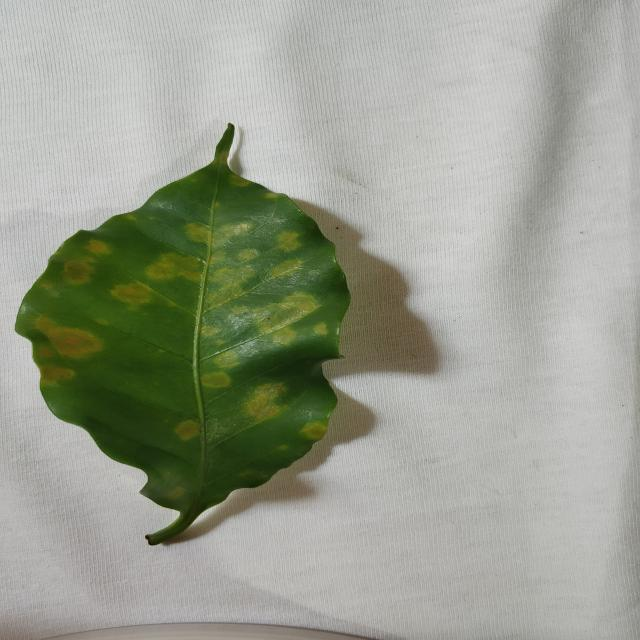Enfermedad-Roya: (14, 126, 351, 547)
